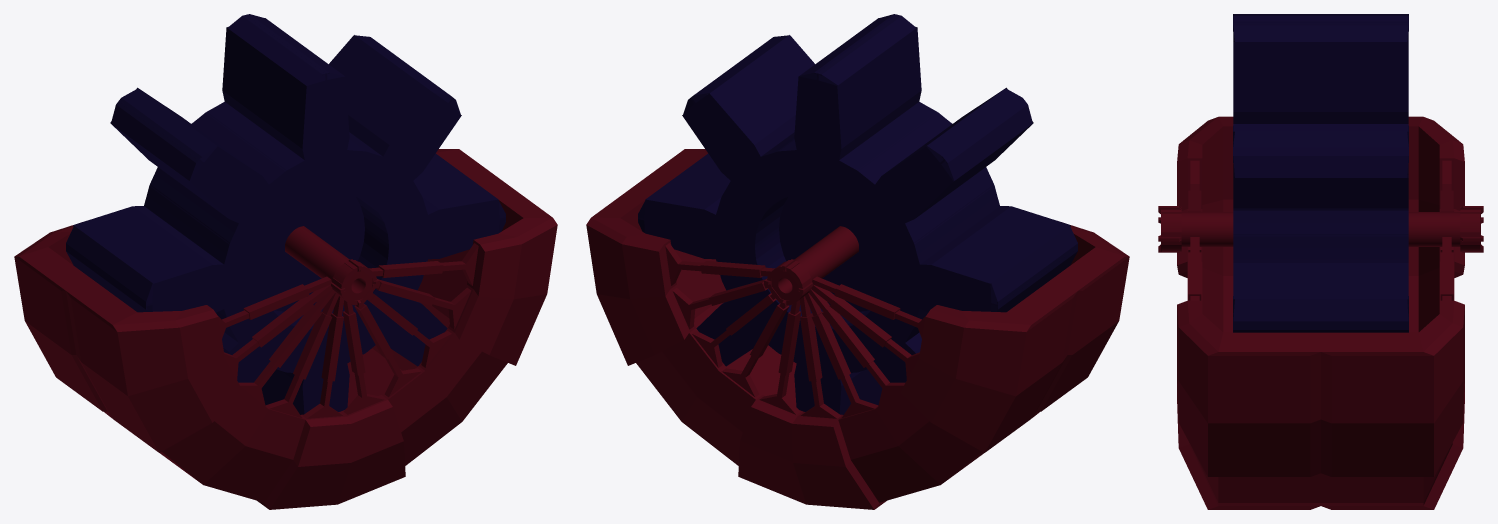
File: Heavy_Gear.fbx
3 views of the same model, side by side, from view 1: azimuth 30°, elevation 25°; view 2: azimuth 150°, elevation 25°; view 3: azimuth 270°, elevation 25° (orthographic). The views are drawn at different scales.
Visible parts, largest first — view 1: Gear.001, Cylinder.002; view 2: Gear.001, Cylinder.002; view 3: Cylinder.002, Gear.001.
Part boxes in pixels (left/top/right/bottom): Gear.001: left=66, top=14, right=505, bottom=414; Cylinder.002: left=14, top=149, right=557, bottom=509; Gear.001: left=638, top=14, right=1077, bottom=414; Cylinder.002: left=586, top=149, right=1129, bottom=509; Cylinder.002: left=1158, top=116, right=1483, bottom=509; Gear.001: left=1233, top=14, right=1408, bottom=332.
Size of the model in its own units: 3169 by 2907 by 1851.
